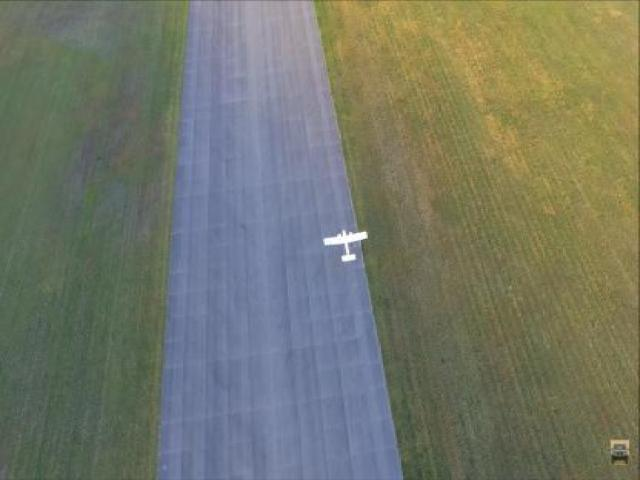uav: (322, 227, 369, 265)
